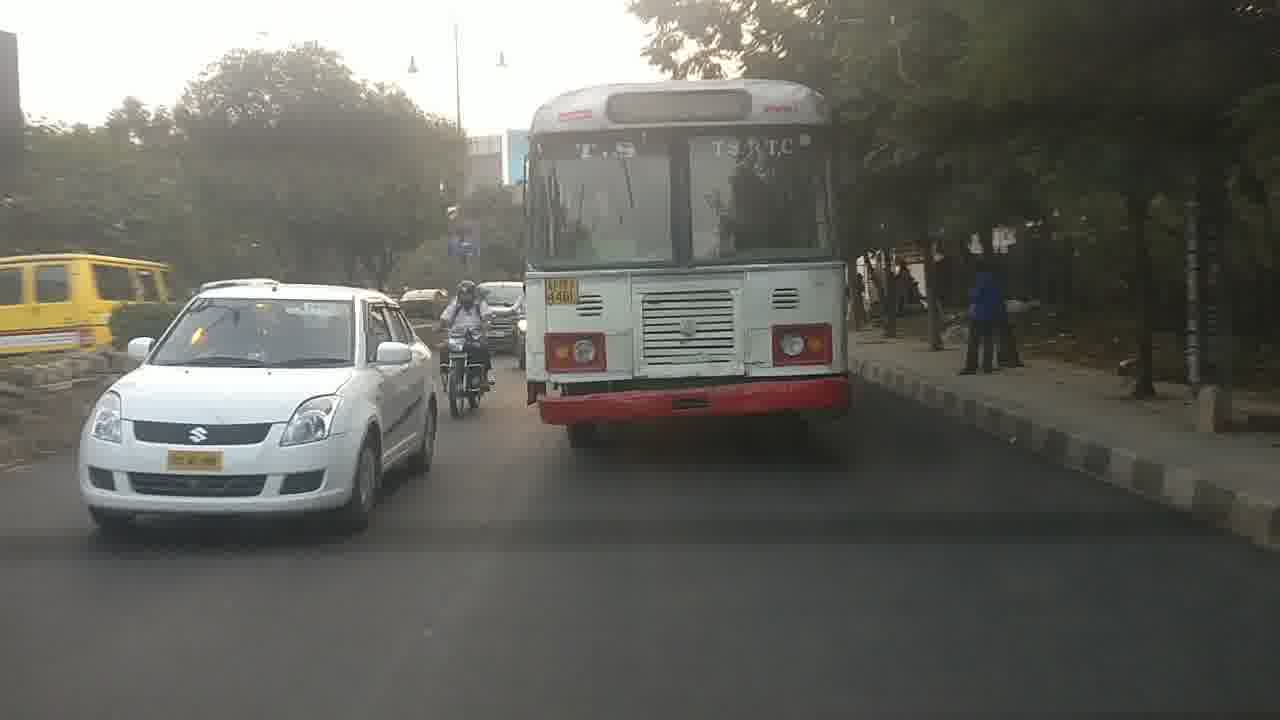swift desire: (85, 288, 433, 517)
